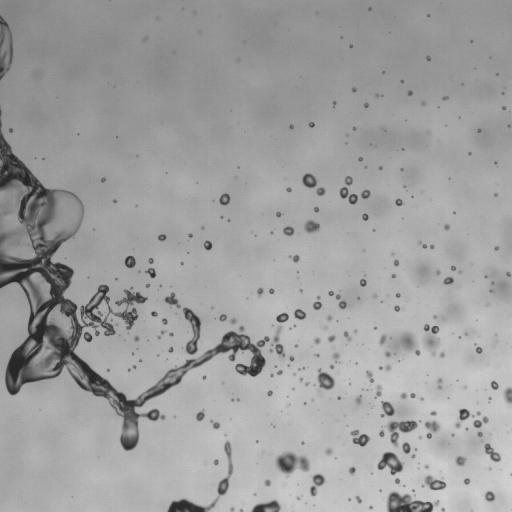droplet: (275, 451, 310, 476), (385, 421, 417, 447), (377, 451, 404, 475), (116, 289, 146, 306), (400, 331, 420, 355), (316, 368, 334, 394), (454, 408, 473, 428), (422, 475, 446, 490), (310, 473, 325, 496), (350, 430, 370, 446), (424, 420, 440, 438), (164, 292, 180, 308), (304, 219, 319, 233), (381, 401, 394, 417), (302, 173, 316, 187), (219, 193, 230, 205), (276, 312, 288, 323), (124, 256, 135, 267), (294, 309, 305, 319), (313, 296, 321, 309), (145, 268, 155, 278), (455, 456, 465, 466), (283, 226, 294, 235), (485, 491, 494, 501), (196, 410, 204, 421), (402, 442, 410, 453), (366, 370, 373, 382), (204, 240, 212, 250), (433, 315, 444, 322), (316, 187, 325, 195), (361, 190, 370, 198), (443, 277, 453, 284), (379, 334, 386, 344), (490, 381, 498, 389), (211, 421, 219, 429), (345, 176, 352, 185), (290, 255, 299, 262), (344, 331, 351, 340), (333, 352, 339, 362), (395, 198, 403, 205), (158, 234, 166, 241), (355, 395, 361, 404), (219, 314, 226, 321), (328, 335, 335, 342), (325, 448, 332, 455), (360, 278, 366, 286), (257, 288, 263, 296), (476, 346, 482, 353), (400, 392, 407, 398), (349, 467, 355, 474), (264, 479, 270, 486), (362, 214, 368, 220), (314, 338, 320, 344), (356, 496, 361, 503), (444, 224, 449, 230), (394, 305, 399, 311), (151, 311, 157, 316), (162, 318, 167, 324), (230, 318, 236, 323), (267, 390, 272, 396), (379, 430, 384, 436), (213, 459, 218, 465), (395, 478, 400, 484), (464, 478, 469, 484), (309, 122, 314, 127), (276, 212, 281, 217), (148, 258, 153, 263), (134, 336, 139, 341), (168, 347, 173, 352), (385, 352, 390, 357), (439, 352, 444, 357), (477, 432, 482, 437), (394, 260, 398, 266), (352, 87, 356, 92), (408, 90, 412, 95), (442, 96, 447, 100), (101, 177, 105, 182), (286, 187, 291, 191), (314, 207, 318, 212), (269, 288, 273, 293), (328, 291, 333, 295), (289, 356, 293, 361), (277, 370, 282, 374), (410, 393, 415, 397), (431, 411, 436, 415), (426, 56, 430, 60), (364, 103, 368, 107), (358, 157, 362, 161), (188, 233, 192, 237), (430, 244, 434, 248), (494, 246, 498, 250), (451, 266, 455, 270), (506, 272, 510, 276), (396, 293, 400, 297), (327, 316, 331, 320), (169, 332, 173, 336), (299, 377, 303, 381), (476, 411, 480, 415), (230, 507, 234, 511), (421, 102, 425, 105), (436, 270, 439, 274), (305, 382, 309, 385), (411, 454, 415, 457), (425, 464, 428, 468), (502, 106, 505, 109), (290, 125, 293, 128), (379, 166, 382, 169), (113, 199, 116, 202), (485, 274, 488, 277), (146, 284, 149, 287), (324, 326, 327, 329), (330, 365, 333, 368), (203, 376, 206, 379), (297, 496, 300, 499), (369, 506, 372, 509), (441, 508, 444, 511), (315, 354, 319, 356), (144, 37, 146, 40), (333, 102, 335, 105), (9, 129, 12, 131), (478, 129, 480, 132), (180, 262, 183, 264), (374, 294, 376, 297), (374, 326, 376, 329), (465, 332, 467, 335), (295, 344, 297, 347), (133, 365, 135, 368), (270, 374, 273, 376), (338, 396, 340, 399), (231, 398, 233, 401), (240, 509, 243, 511), (353, 127, 355, 129), (4, 211, 6, 213), (490, 273, 492, 275)
ligament: (0, 109, 285, 450), (166, 441, 233, 511), (386, 491, 439, 511), (183, 307, 201, 354), (0, 16, 12, 80), (422, 324, 439, 355), (251, 500, 280, 511), (339, 187, 357, 204), (484, 443, 500, 462), (335, 294, 346, 309), (473, 416, 488, 427), (503, 387, 511, 404), (375, 385, 381, 398), (158, 330, 165, 339), (379, 365, 391, 370), (437, 378, 442, 388), (419, 242, 426, 248), (470, 510, 473, 511)
